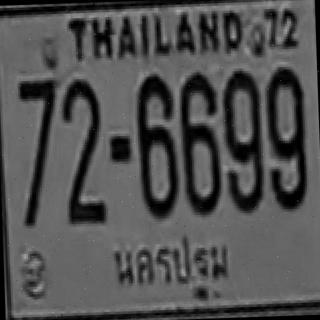N00: (222, 68, 260, 158)
N02: (60, 77, 103, 203), (62, 104, 105, 222)
N06: (134, 72, 177, 216), (178, 70, 221, 214)
N07: (17, 77, 57, 167), (18, 78, 57, 158)
N09: (263, 65, 306, 208), (221, 70, 262, 211)
P28: (105, 230, 238, 306)
